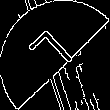L_SE: (27, 26, 83, 84)
